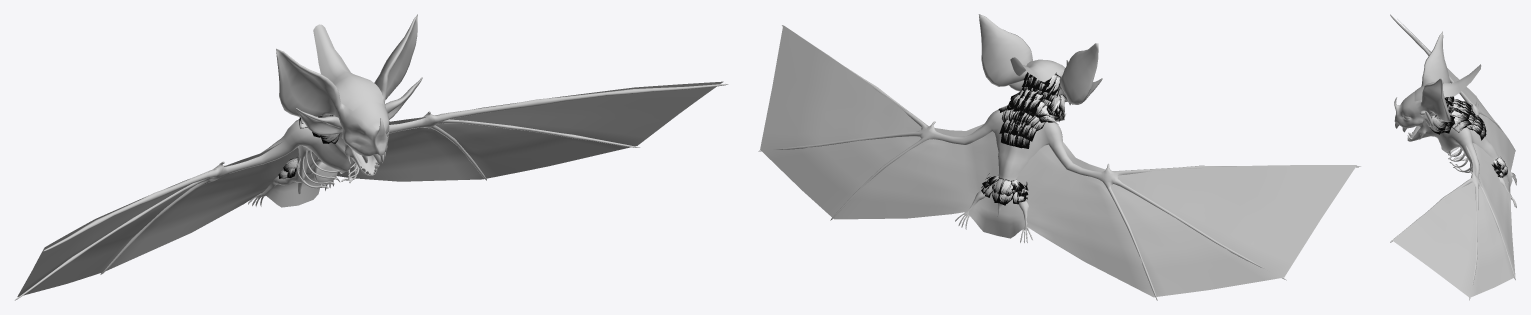
File: ghost_mess_bat_low_with_fur.fbx
The picture shows the model from 3 angles, left to right: view 1: azimuth 30°, elevation 25°; view 2: azimuth 150°, elevation 25°; view 3: azimuth 270°, elevation 25°; orthographic projection. The views are drawn at different scales.
Visible parts, largest first — view 1: wings_low, body_low, ghost_hood_low, small_ears_low, rib_cage_low, main_fur; view 2: wings_low, body_low, main_fur, ghost_hood_low; view 3: wings_low, body_low, main_fur, ghost_hood_low, rib_cage_low, small_ears_low.
Part boxes in pixels (x1,y1,x2,y2): wings_low: (17,81,723,296); body_low: (15,14,728,300); ghost_hood_low: (313,24,382,110); small_ears_low: (295,77,422,135); rib_cage_low: (297,150,359,188); main_fur: (278,114,340,178); wings_low: (760,25,1356,297); body_low: (758,14,1360,300); main_fur: (981,72,1065,205); ghost_hood_low: (1010,57,1064,81); wings_low: (1392,19,1515,297); body_low: (1390,14,1516,300); main_fur: (1430,96,1507,177); ghost_hood_low: (1414,64,1481,101); rib_cage_low: (1447,146,1472,172); small_ears_low: (1419,84,1432,127).
Size of the model in its own units: 4019 by 1320 by 943.
